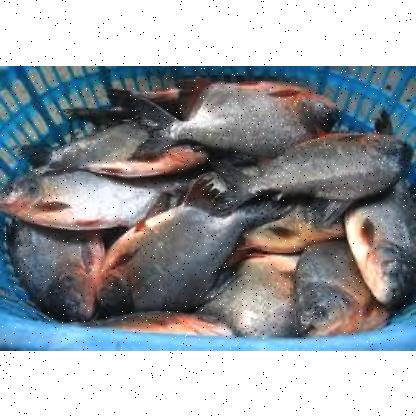ikan-pacu: (96, 200, 270, 312), (219, 130, 410, 206), (158, 82, 336, 148), (0, 171, 162, 231), (341, 195, 415, 301), (43, 123, 205, 171), (292, 241, 369, 333)
